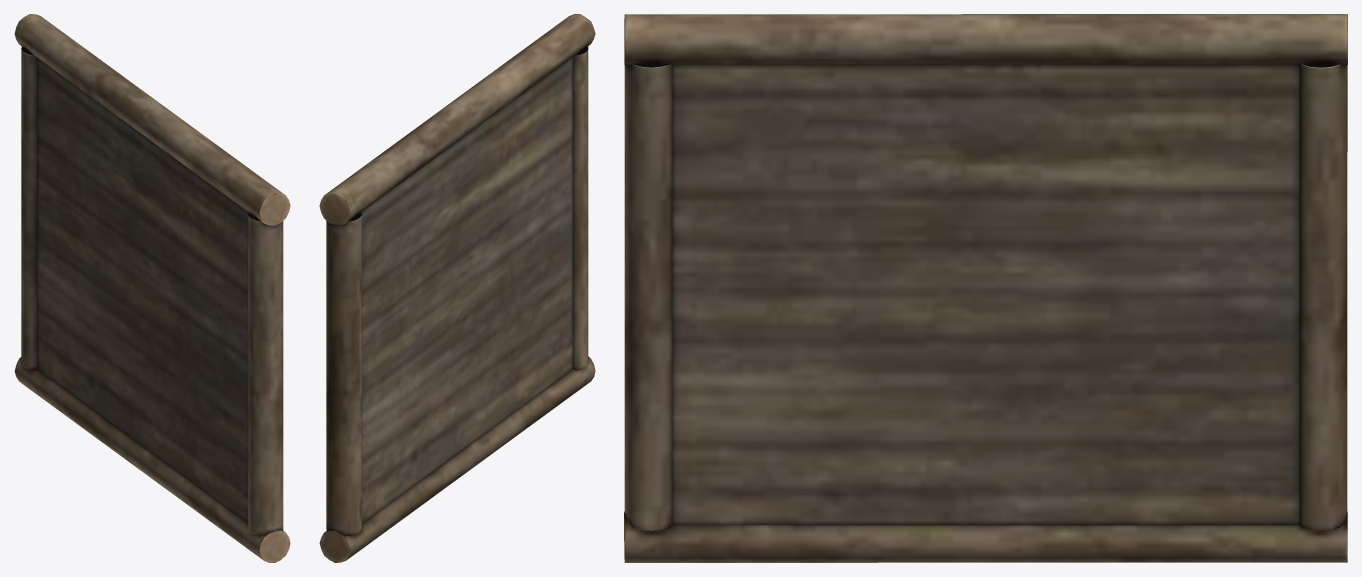
Rendered from SM_Wall_Wood_46c8b1.glb.
3 views of the same model, side by side, from view 1: azimuth 30°, elevation 25°; view 2: azimuth 150°, elevation 25°; view 3: azimuth 270°, elevation 25° (orthographic). The views are drawn at different scales.
Size of the model in its own units: 0.2918 by 3.34 by 4.01.
1 material, 1 textured.
